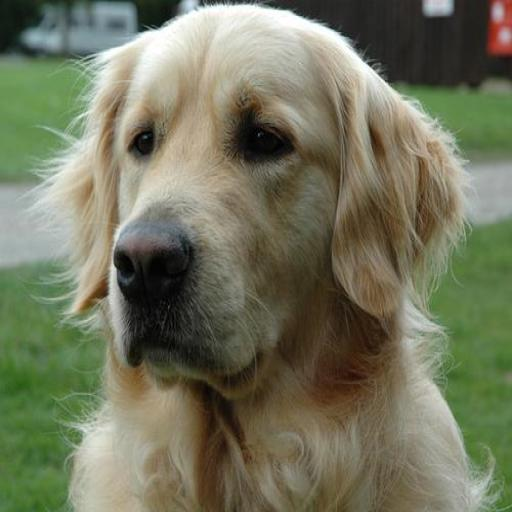dog_face: (68, 18, 417, 376)
